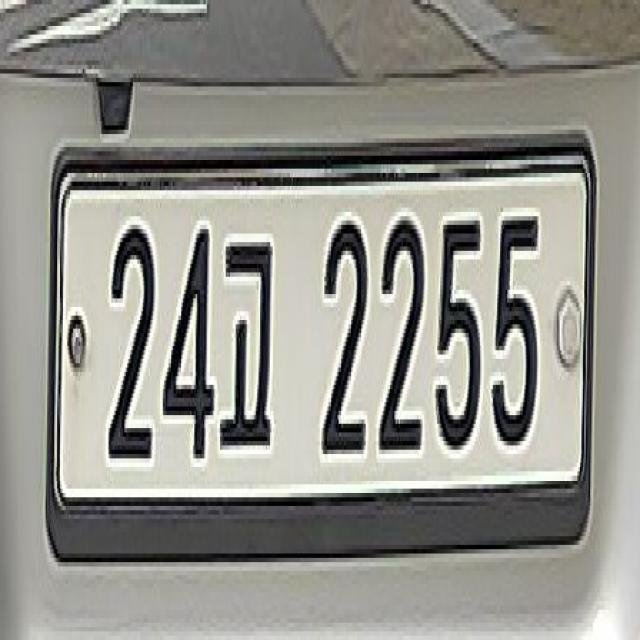2: (104, 208, 158, 469), (318, 198, 370, 468), (378, 198, 428, 469)
4: (162, 207, 217, 469)
5: (490, 188, 546, 468), (430, 198, 488, 468)
go: (220, 216, 278, 469)
license_plate: (57, 163, 591, 503)
